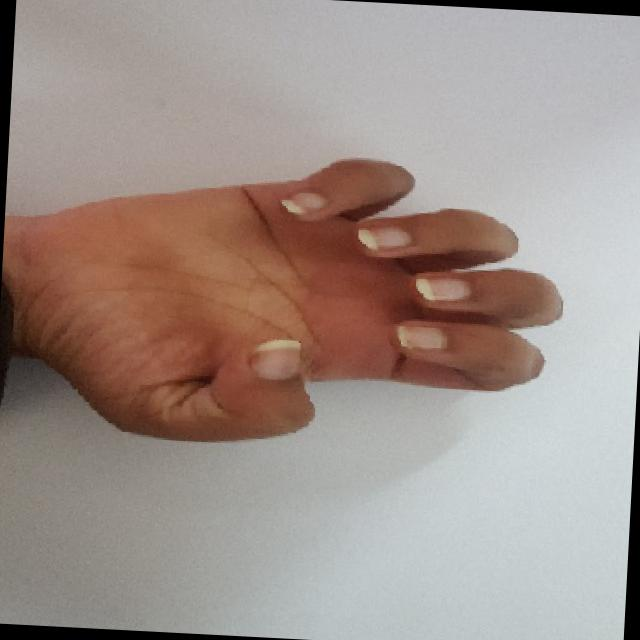Nail: (251, 339, 301, 380), (416, 276, 471, 301), (358, 226, 412, 251), (397, 324, 448, 350), (281, 191, 327, 216)
